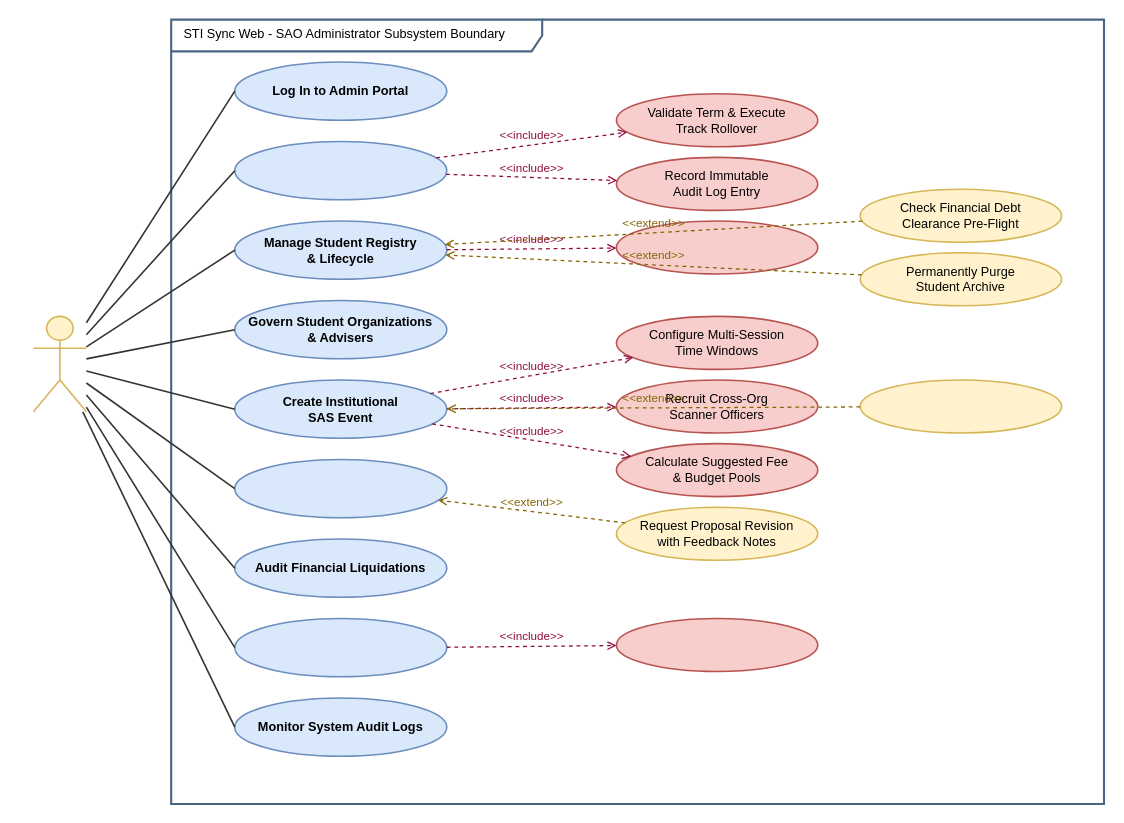
The diagram is 1124 pixels wide and 823 high, and some of its shapes have lost their labels. Each missing label, with the box of its shape:
Enforce Red QR Lock Gate Policy: (859, 379, 1062, 433)
Generate Verification QR Hash: (615, 617, 818, 672)
Manage Academic Semesters & Rollover Engine: (234, 140, 447, 200)
Manage Certificate Templates & Issuance: (234, 617, 447, 677)
Review Club Event Proposals: (234, 458, 447, 518)
SAO / SAS Administrator: (32, 315, 87, 412)
Verify Student ID & Selfie Photos: (615, 220, 818, 274)
